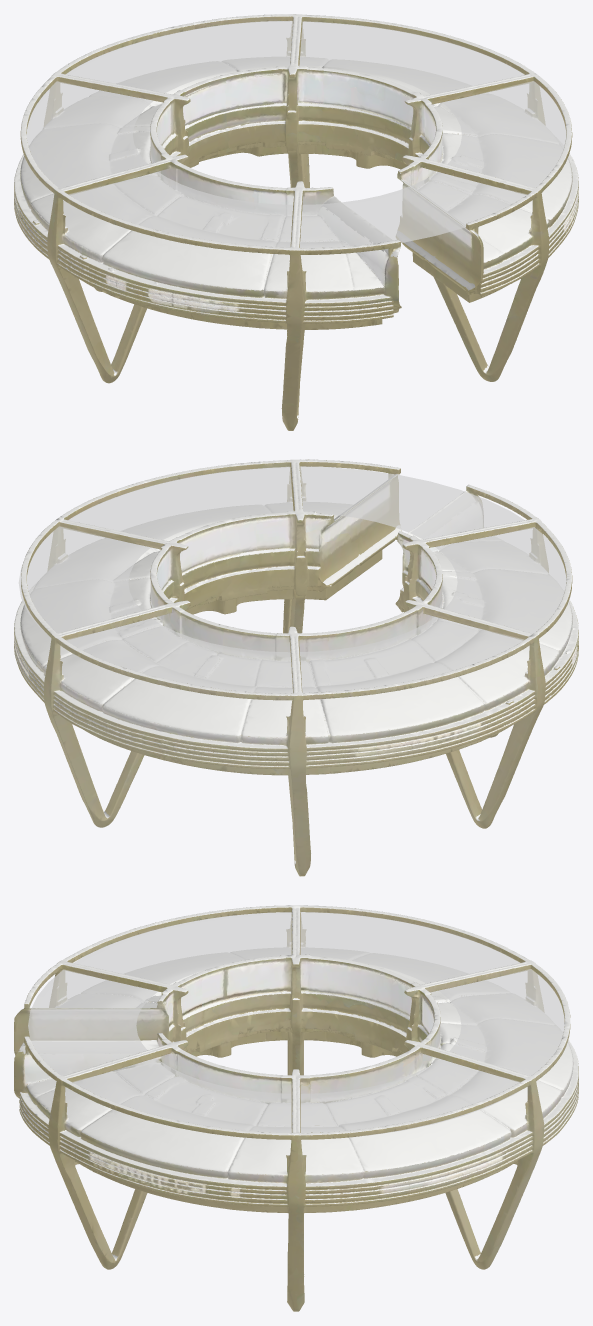
Rendered from Kiosk_Centre_opt.glb.
The picture shows the model from 3 angles, top to bottom: view 1: azimuth 30°, elevation 25°; view 2: azimuth 150°, elevation 25°; view 3: azimuth 270°, elevation 25°; orthographic projection.
Visible parts, largest first — view 1: Mesh_0_2, Mesh_0_1, glass; view 2: Mesh_0_2, Mesh_0_1, glass; view 3: Mesh_0_1, Mesh_0_2, glass.
Part boxes in pixels (x1,y1,x2,y2): Mesh_0_2: (14,14,578,418); Mesh_0_1: (14,16,578,430); glass: (26,20,565,248); Mesh_0_2: (14,459,578,864); Mesh_0_1: (14,459,578,876); glass: (18,466,566,693); Mesh_0_1: (14,905,578,1311); Mesh_0_2: (18,905,578,1260); glass: (28,912,564,1136).
Size of the model in its own units: 1.87 by 0.7612 by 1.9.
Materials: 3 (1 with a texture image).
